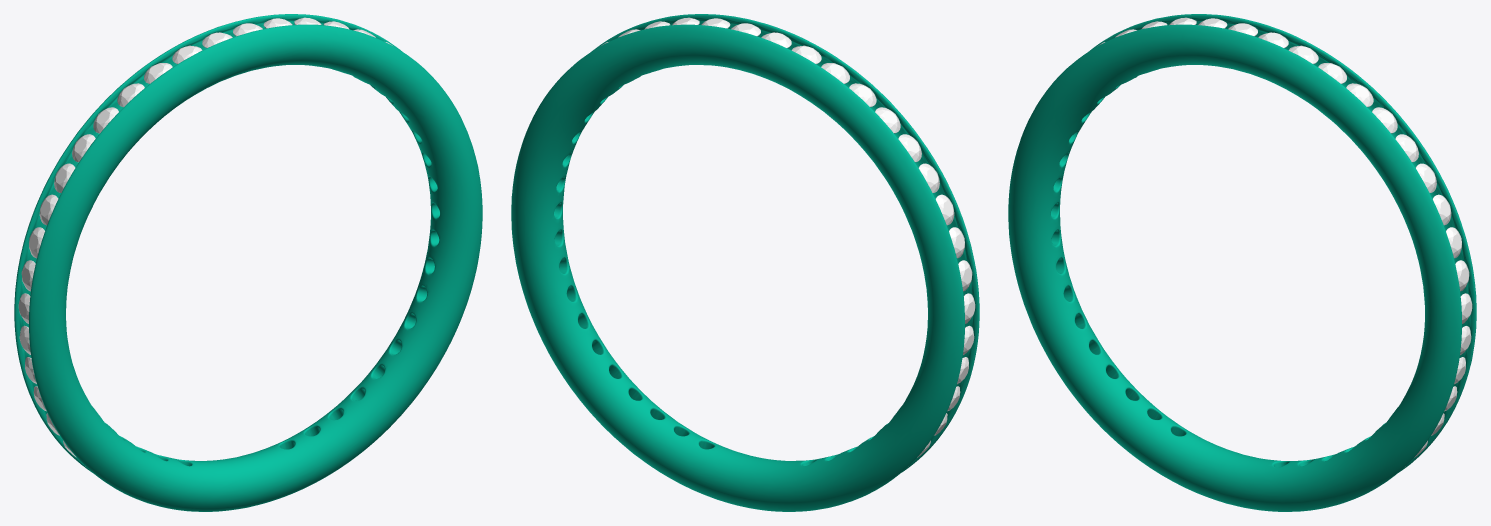
File: BE2D458LC_RENDER.glb
The picture shows the model from 3 angles, left to right: view 1: azimuth 30°, elevation 25°; view 2: azimuth 150°, elevation 25°; view 3: azimuth 330°, elevation 25°; orthographic projection.
Visible parts, largest first — view 1: Metal03; view 2: Metal03; view 3: Metal03.
Part boxes in pixels (x1=…): Metal03: x1=14, y1=14, x2=482, y2=511; Metal03: x1=511, y1=14, x2=979, y2=511; Metal03: x1=1008, y1=14, x2=1476, y2=511.
Bounding box in the file's own units: 20.12 × 20.12 × 2.
